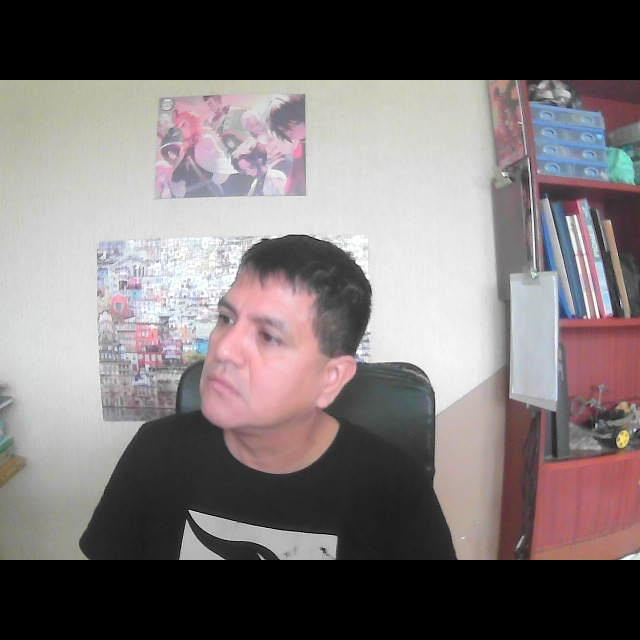cesar: (184, 220, 382, 486)
